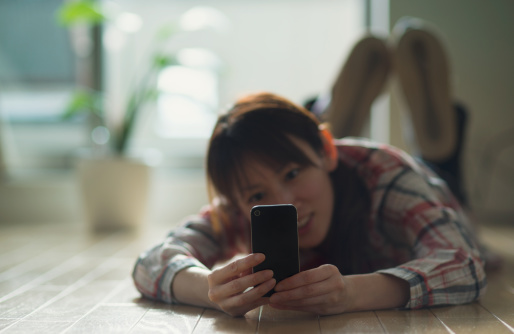deitado: (142, 90, 482, 327)
